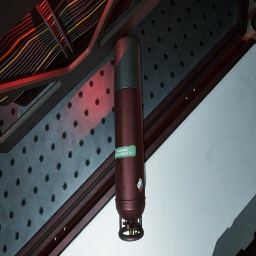NitrogenTank ,: (114, 36, 146, 242)
